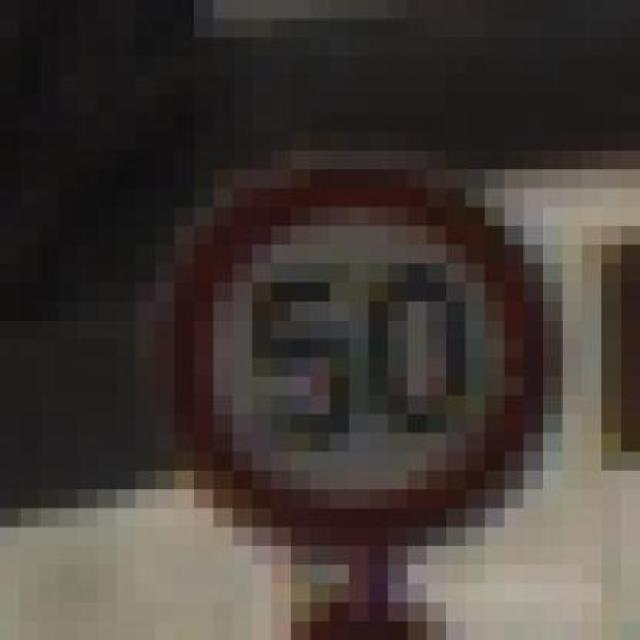50 mph speed limit: (112, 114, 578, 566)
